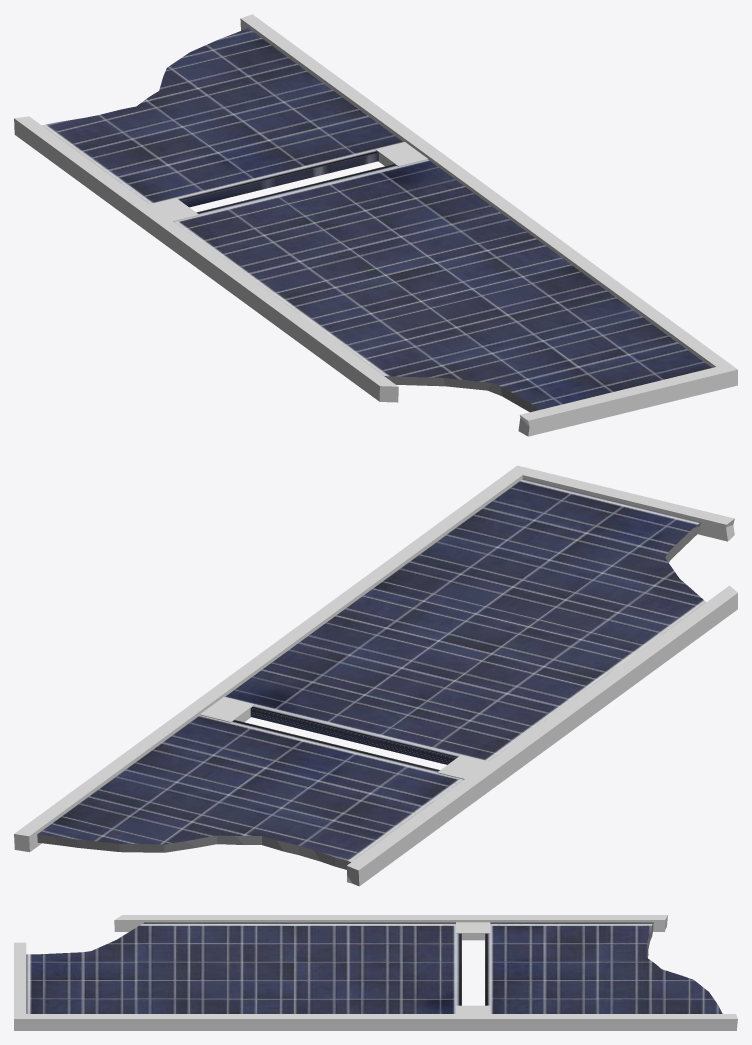
The model's file is panel.fbx.
3 views of the same model, one above another, from view 1: azimuth 30°, elevation 25°; view 2: azimuth 150°, elevation 25°; view 3: azimuth 270°, elevation 25° (orthographic). The views are drawn at different scales.
Parts seen in each view (by area): view 1: 立方体; view 2: 立方体; view 3: 立方体.
Boxes of the visible parts, left/top/right/bottom form: 立方体: left=14, top=14, right=737, bottom=436; 立方体: left=14, top=465, right=737, bottom=886; 立方体: left=14, top=915, right=737, bottom=1030.
Bounding box in the file's own units: 213 × 11.36 × 627.
